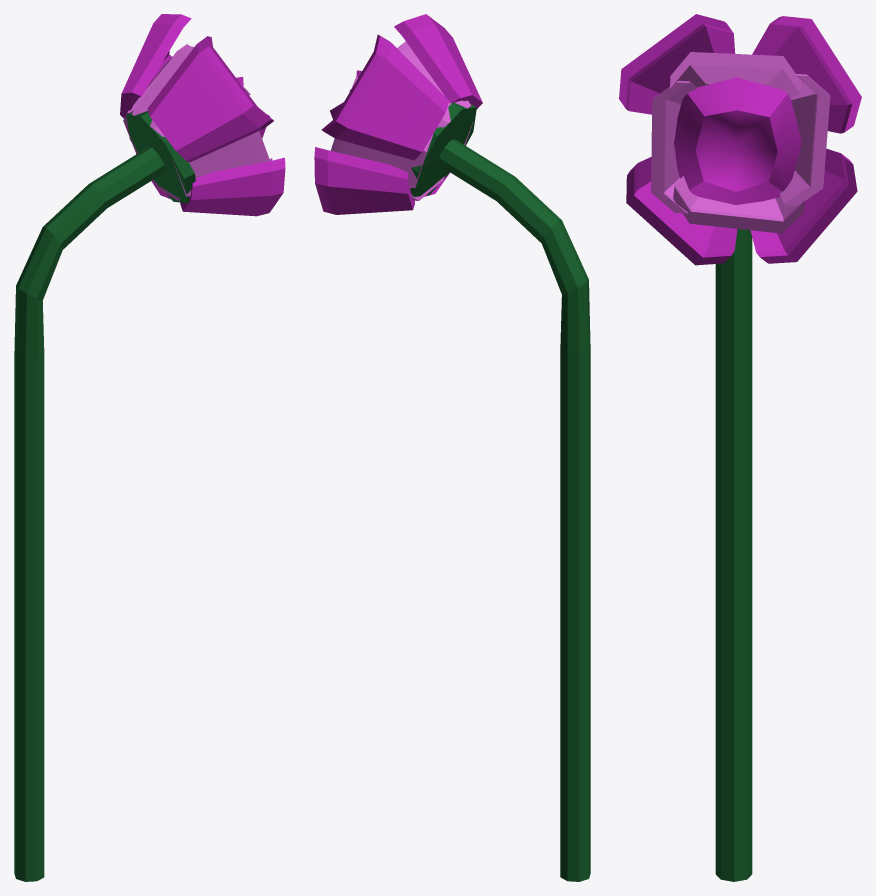
Rendered from TT_Flower_pink.fbx.
The picture shows the model from 3 angles, left to right: view 1: azimuth 30°, elevation 25°; view 2: azimuth 150°, elevation 25°; view 3: azimuth 270°, elevation 25°; orthographic projection. The views are drawn at different scales.
Parts seen in each view (by area): view 1: Rose_Pink; view 2: Rose_Pink; view 3: Rose_Pink.
Part boxes in pixels (x1=…): Rose_Pink: x1=14, y1=14, x2=285, y2=881; Rose_Pink: x1=314, y1=14, x2=590, y2=881; Rose_Pink: x1=619, y1=14, x2=861, y2=881.
Size of the model in its own units: 25.62 by 79.21 by 18.19.
